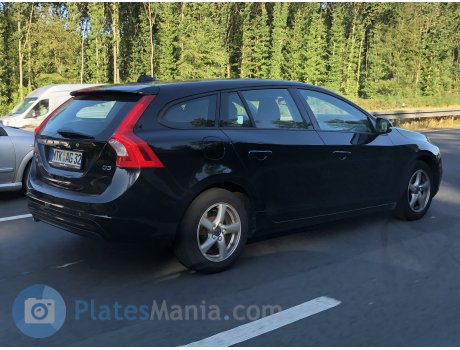License Plates: (49, 147, 83, 161)
